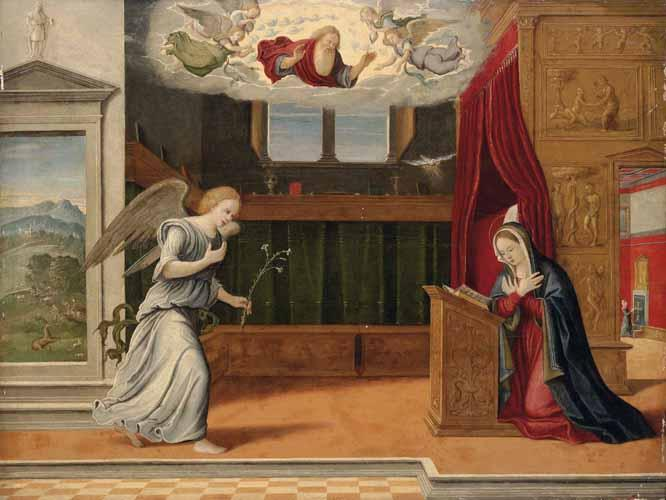angel: (79, 178, 245, 455), (164, 4, 253, 76), (378, 17, 466, 78)
book: (441, 281, 491, 308)
chalice: (386, 175, 405, 195), (263, 172, 279, 195)
lily: (240, 240, 294, 329)
prayer: (487, 218, 656, 443)
